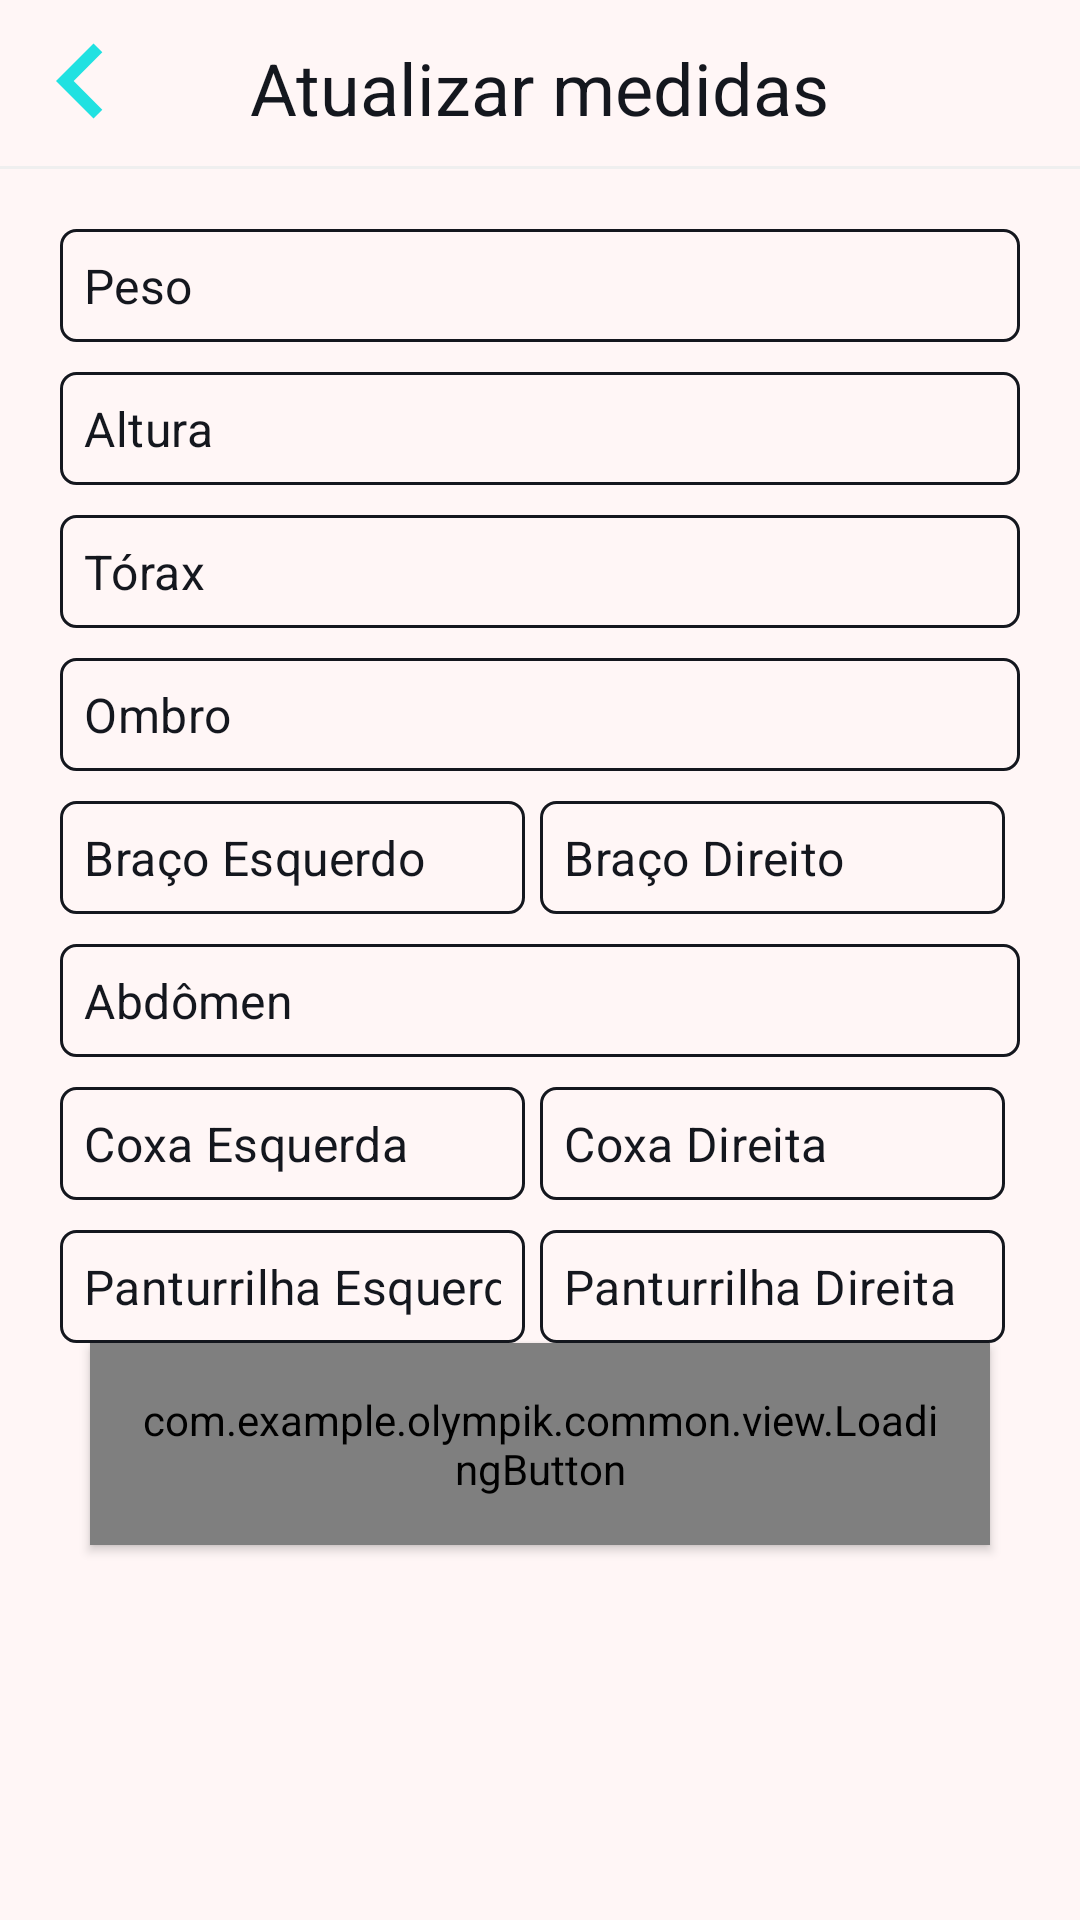

Point at icon controls on the screen. Image size 1080px x 1920px, points as (x,y).
arrow left: (79,81)
